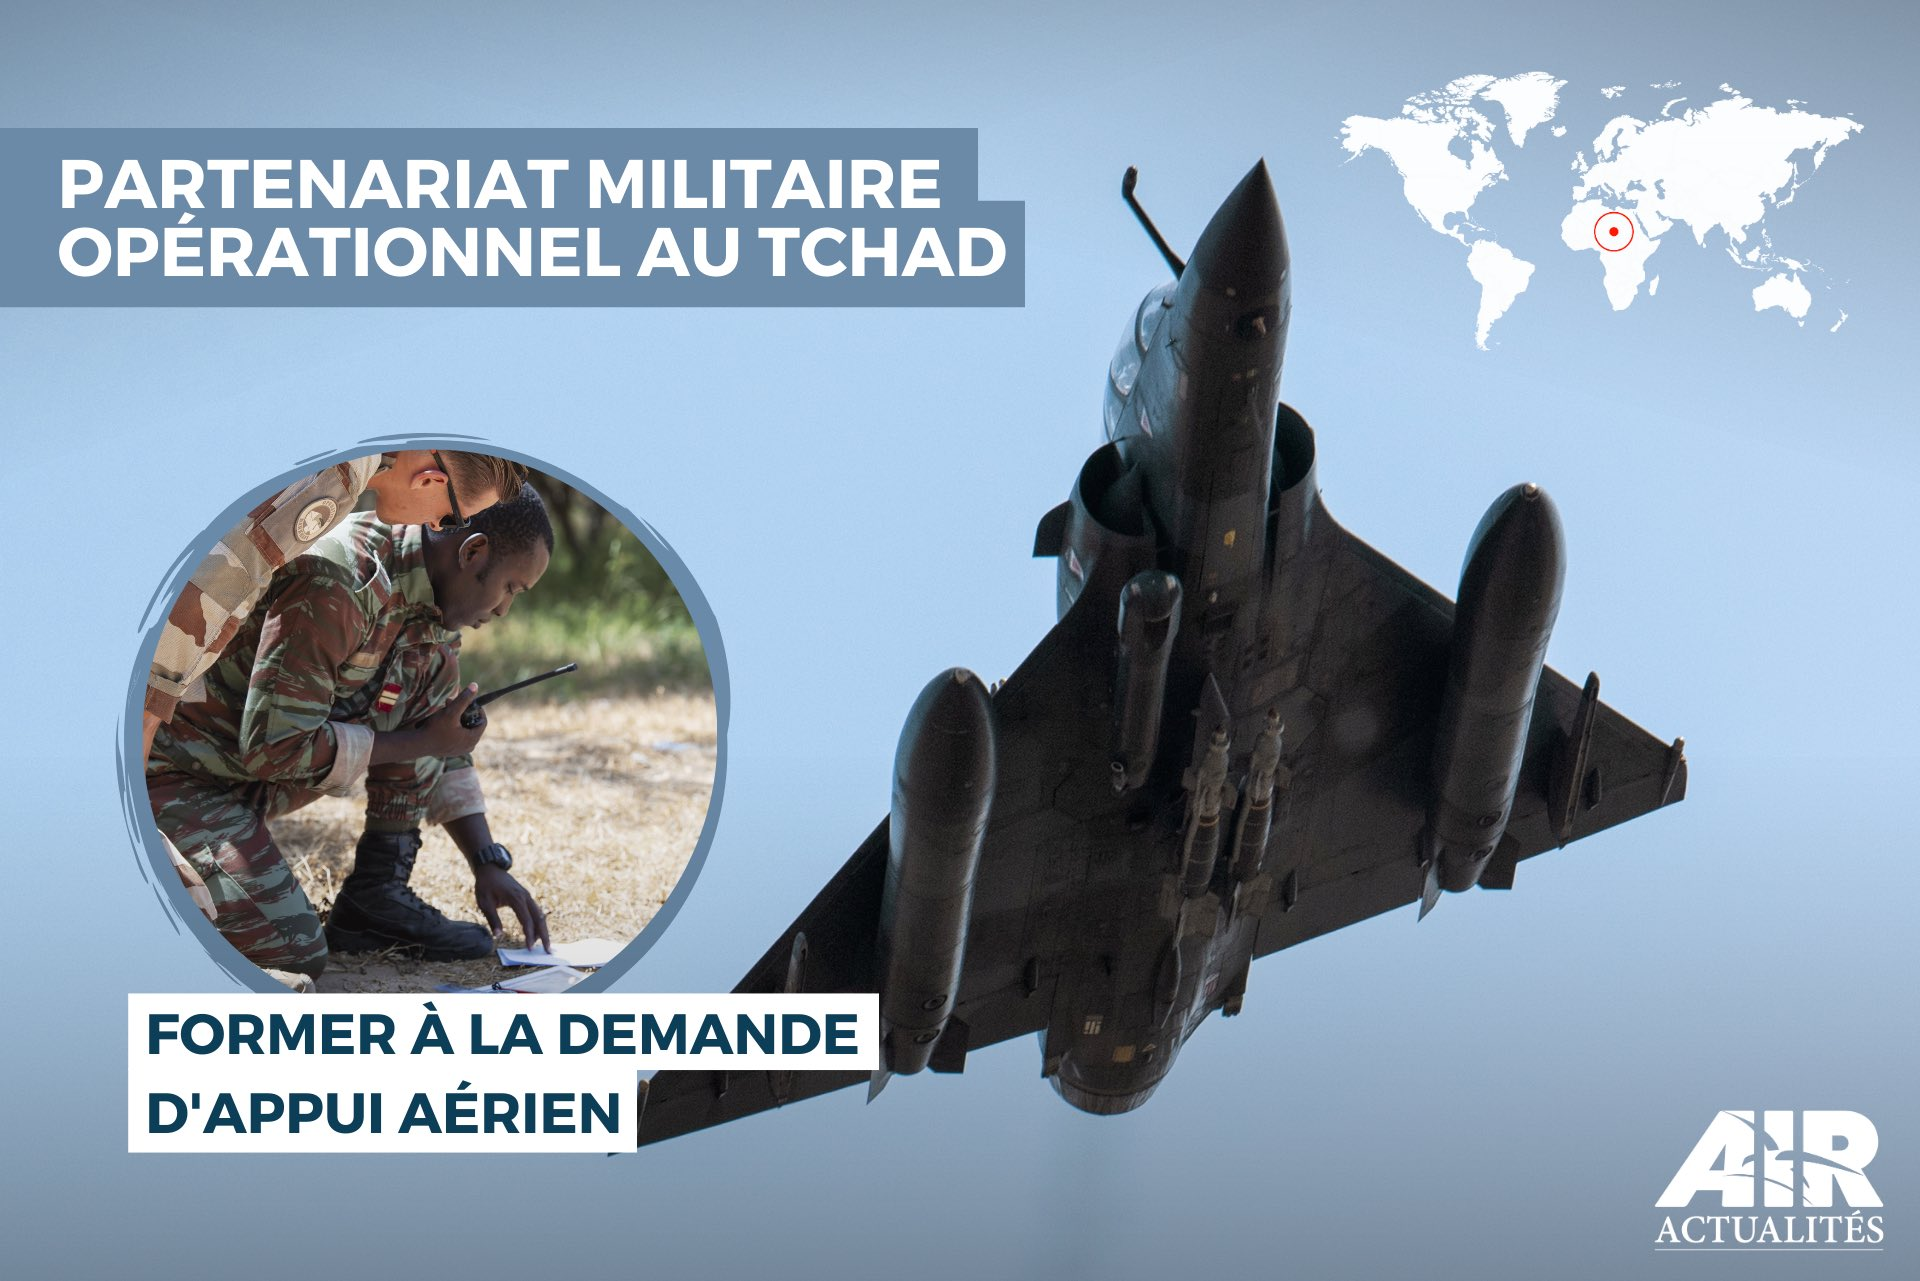Mirage2000: (606, 154, 1688, 1158)
